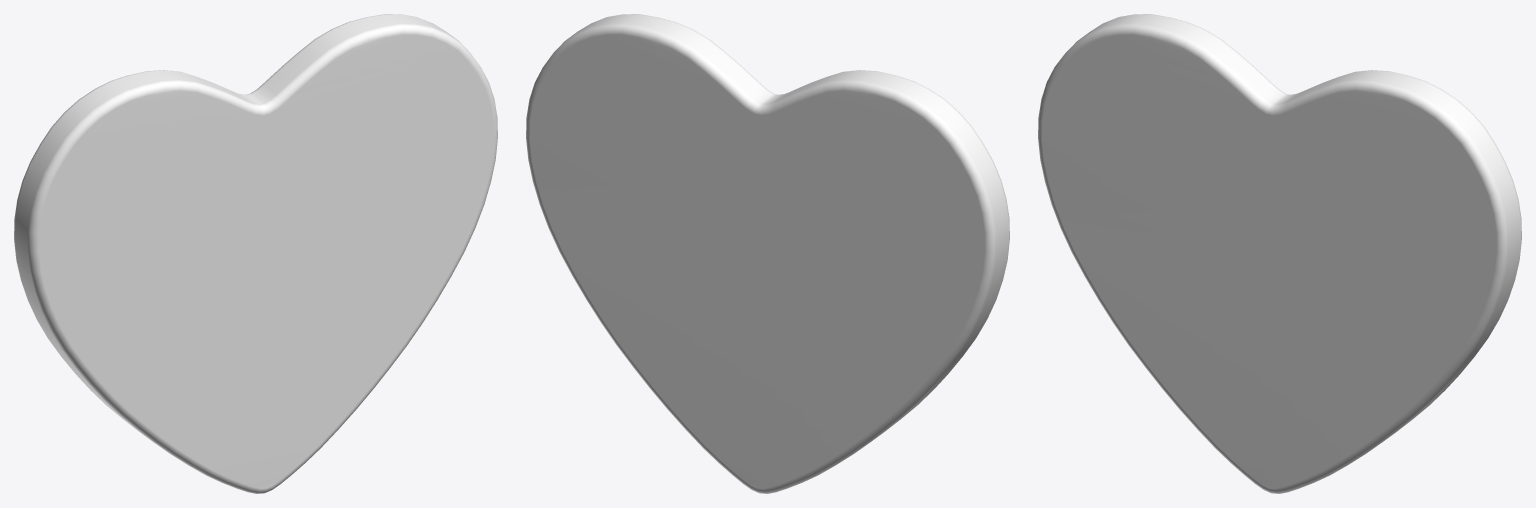
Rendered from heart.fbx.
3 renders of one model, left to right at view 1: azimuth 30°, elevation 25°; view 2: azimuth 150°, elevation 25°; view 3: azimuth 330°, elevation 25°, orthographic.
Parts seen in each view (by area): view 1: node_id63; view 2: node_id63; view 3: node_id63.
Boxes of the visible parts, x1,y1,x2,y2 form: node_id63: (14,14,497,493); node_id63: (526,14,1009,493); node_id63: (1038,14,1521,493).
Size of the model in its own units: 0.512 by 0.4558 by 0.0397.
Materials: 1 (1 with a texture image).
